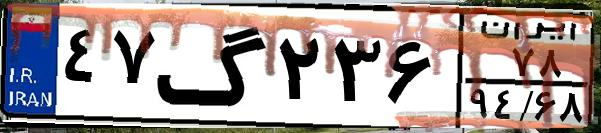2: (270, 28, 330, 110)
3: (330, 28, 385, 110)
4: (57, 26, 110, 100), (495, 70, 520, 125)
6: (385, 28, 445, 110), (535, 70, 560, 125)
7: (110, 28, 156, 98), (508, 27, 537, 80)
8: (560, 70, 590, 125), (537, 27, 568, 80)
9: (470, 70, 495, 125)
گ: (156, 12, 270, 120)
